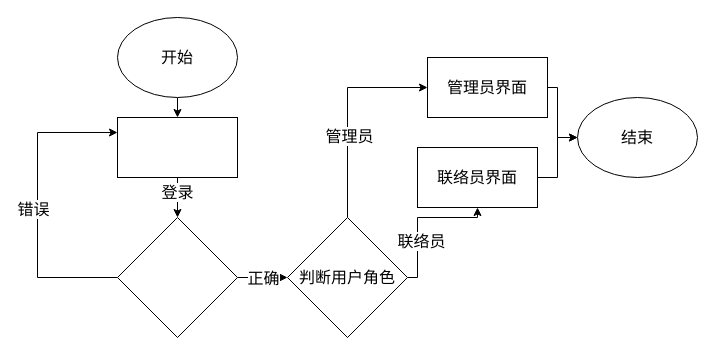
This 715x355 diagram has some shape labels left out. Here are the shapes that lost their labels. From the top down, the centre of each, then its label:
point (177, 147): 用户输入用户名密码
point (177, 277): 验证用户名密码
